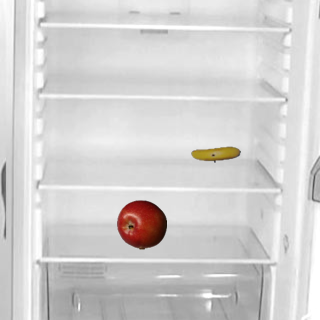Apple Braeburn: (116, 199, 166, 249)
Banana: (190, 129, 240, 179)
